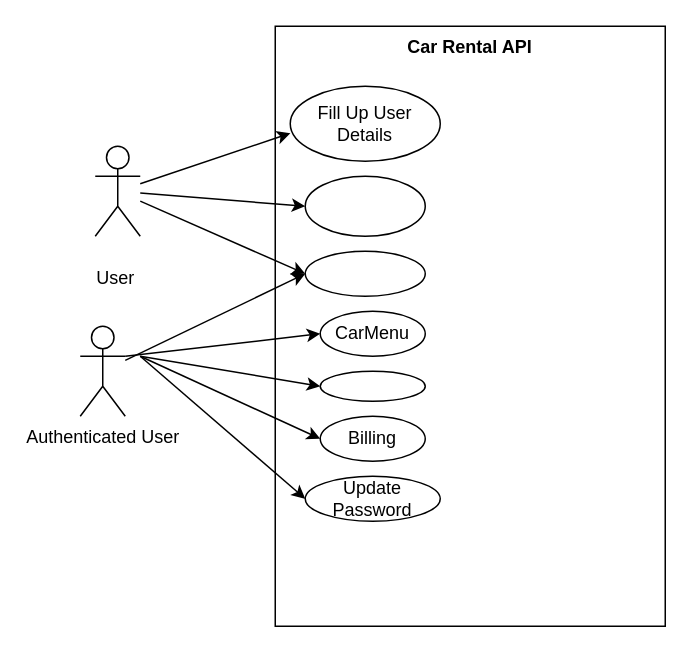
The diagram is 692 pixels wide and 653 high, and some of its shapes have lost their labels. The shapes that lost their labels are listed below. From the top down, each one's centre as x and y in pixels, then its label:
At point (364, 205): "Add Account".
At point (364, 273): "Login".
At point (372, 385): "Book".
